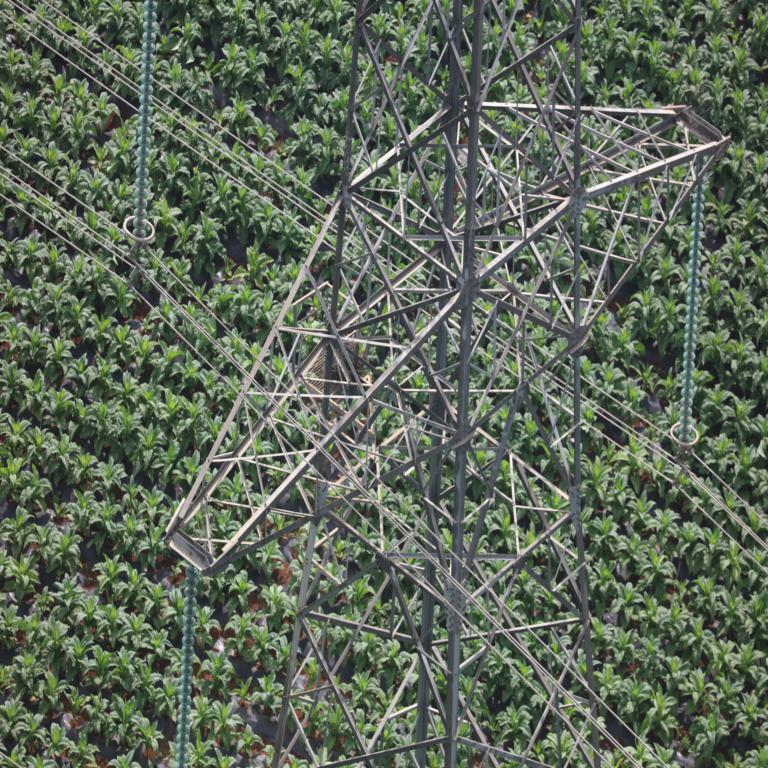nest: (334, 356, 362, 390)
